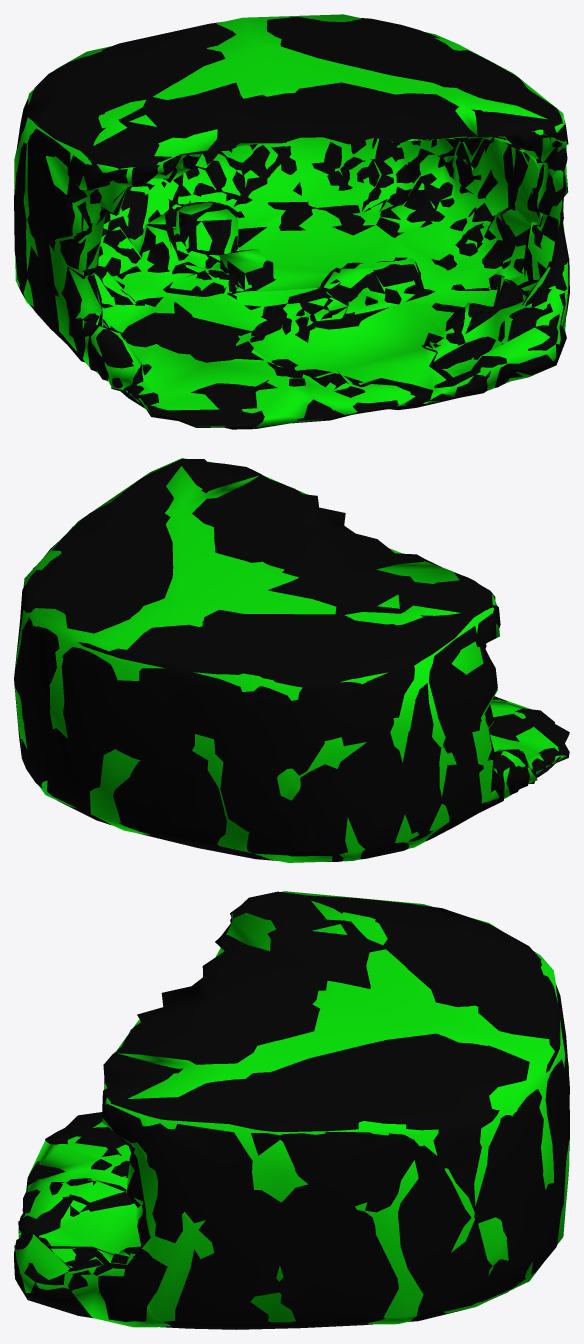
The model's file is FINAL-corner01.fbx.
3 renders of one model, top to bottom at view 1: azimuth 30°, elevation 25°; view 2: azimuth 150°, elevation 25°; view 3: azimuth 270°, elevation 25°, orthographic. The views are drawn at different scales.
Visible parts, largest first — view 1: CORNERLOW2_LOD0, UTM_firegeo; view 2: CORNERLOW2_LOD0, UTM_firegeo; view 3: CORNERLOW2_LOD0, UTM_firegeo.
Part boxes in pixels (box(x1,y1,x2,y2)): CORNERLOW2_LOD0: box(14, 16, 569, 429); UTM_firegeo: box(14, 14, 568, 427); CORNERLOW2_LOD0: box(14, 458, 569, 861); UTM_firegeo: box(14, 458, 569, 862); CORNERLOW2_LOD0: box(14, 891, 569, 1329); UTM_firegeo: box(14, 891, 569, 1327).
Size of what is drawn, in the model's own units: 14167 by 6625 by 14190.
